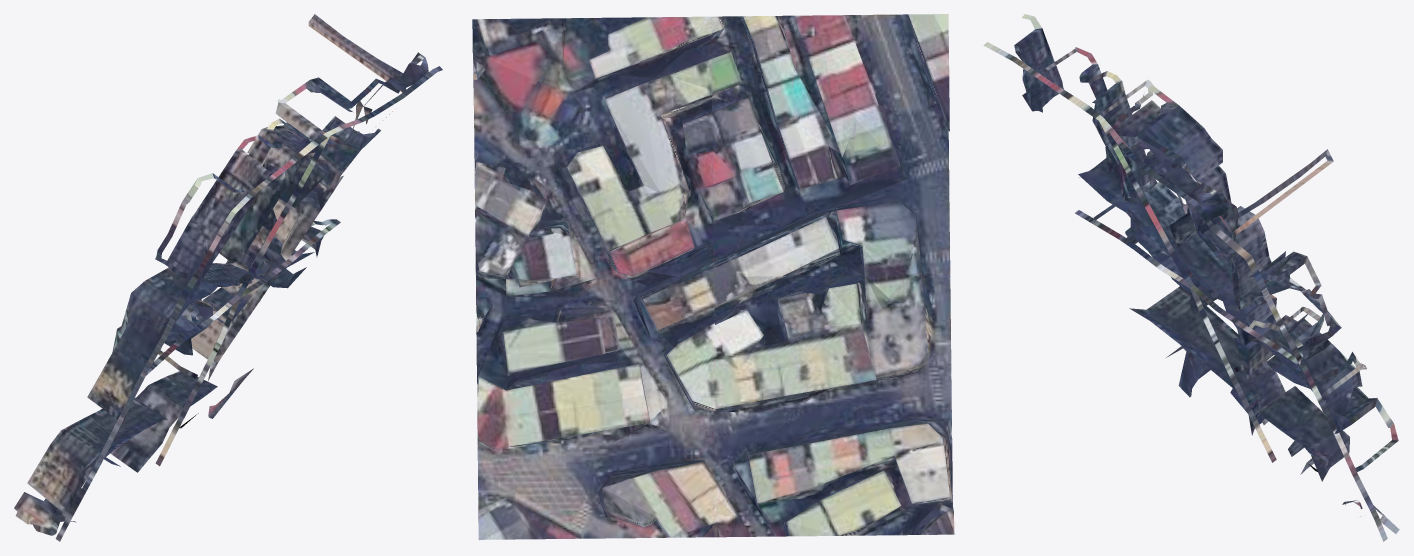
3 renders of one model, left to right at view 1: azimuth 30°, elevation 25°; view 2: azimuth 150°, elevation 25°; view 3: azimuth 270°, elevation 25°, orthographic. The views are drawn at different scales.
Size of the model in its own units: 165 by 147 by 134.
Materials: 1 (1 with a texture image).
